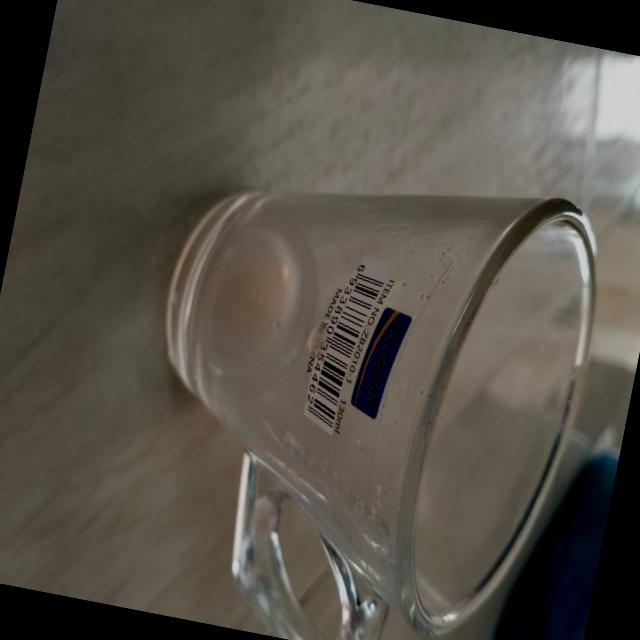glass-VX4N: (104, 124, 613, 640)
